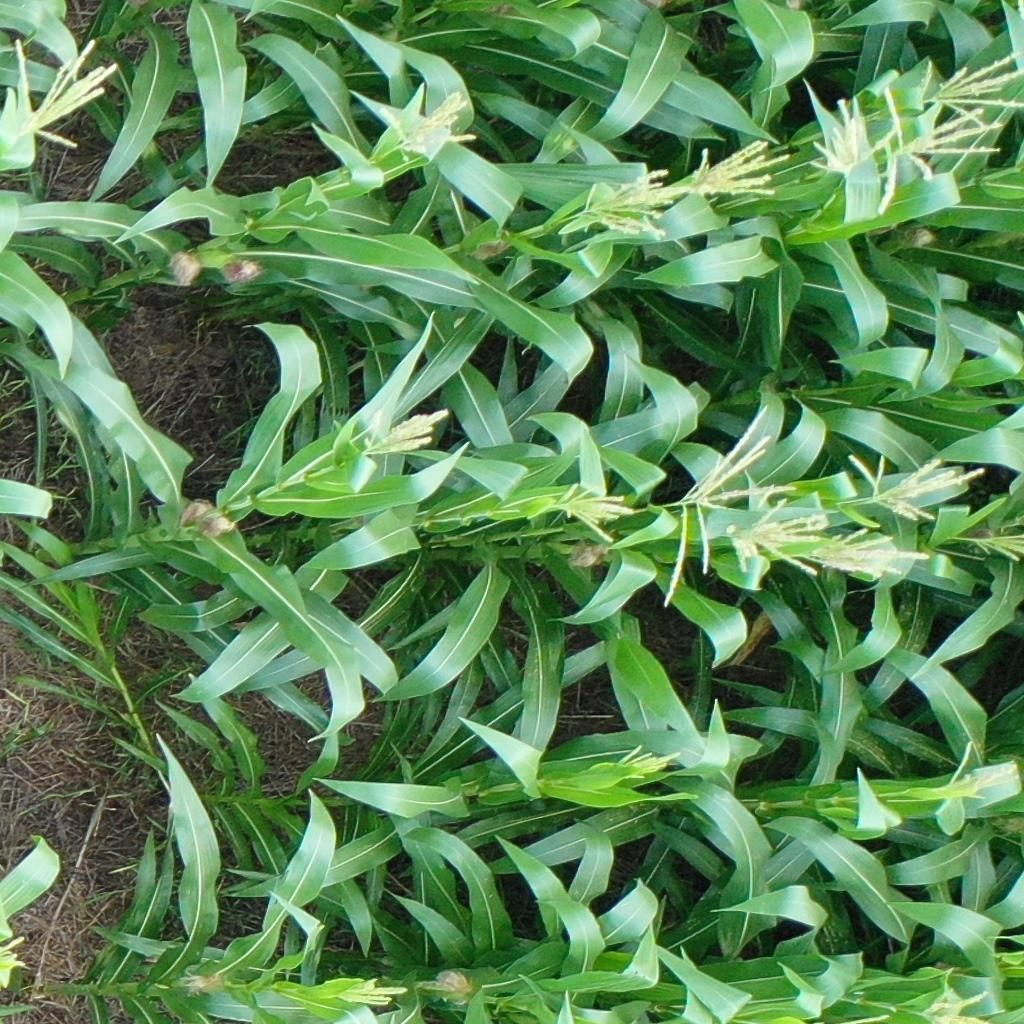Tassel: (666, 396, 784, 610), (874, 85, 1002, 211), (10, 36, 121, 152), (849, 450, 988, 523), (571, 163, 683, 242), (725, 498, 830, 578), (805, 96, 897, 179), (925, 52, 1024, 127), (374, 87, 478, 157), (811, 525, 934, 582), (684, 137, 793, 200), (549, 481, 639, 543), (355, 407, 450, 463), (943, 738, 1020, 803), (613, 743, 685, 788), (921, 988, 1003, 1024), (339, 979, 411, 1008), (970, 530, 1024, 561), (1, 931, 33, 975)
